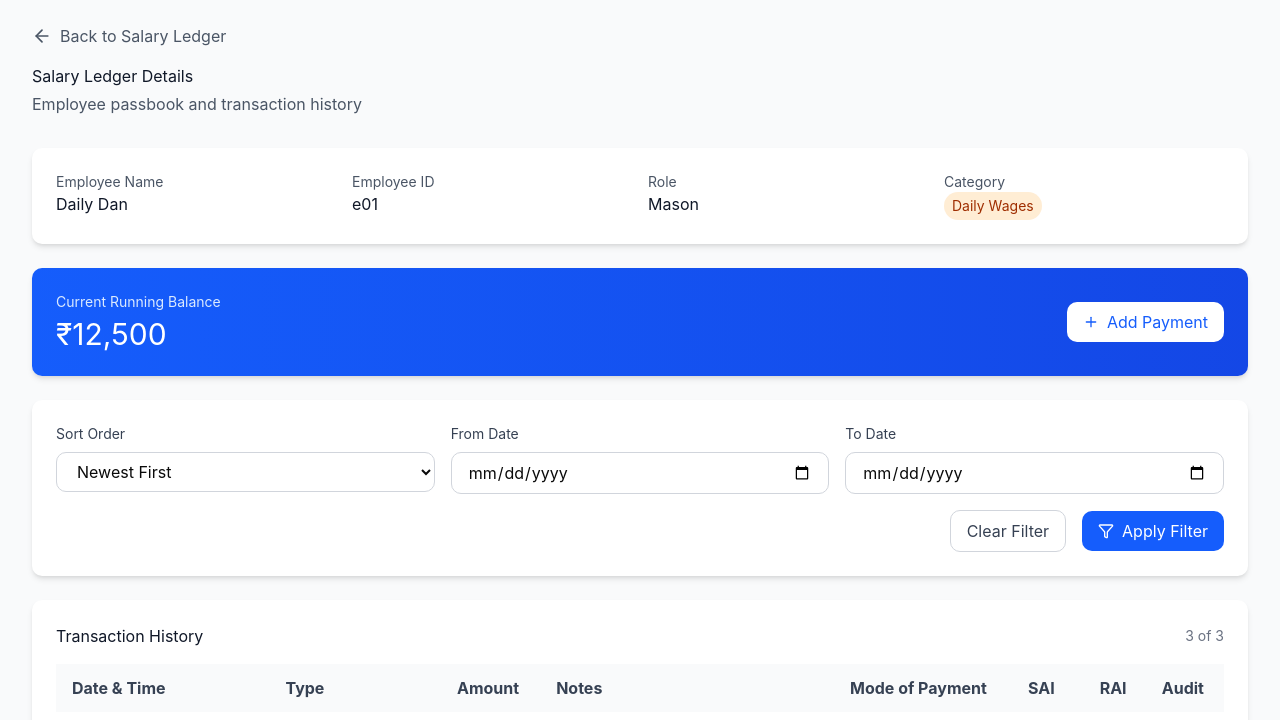
Test case: SalaryLedgerDetailScreen › sorting and filtering › Clear Filter puts everything back and reloads
Check: the heading "Salary Ledger Details" is shown, box [32, 66, 193, 86]
Select "Oldest First" in the dropdown labelled "Sort Order" at (245, 472), box [56, 452, 435, 492]
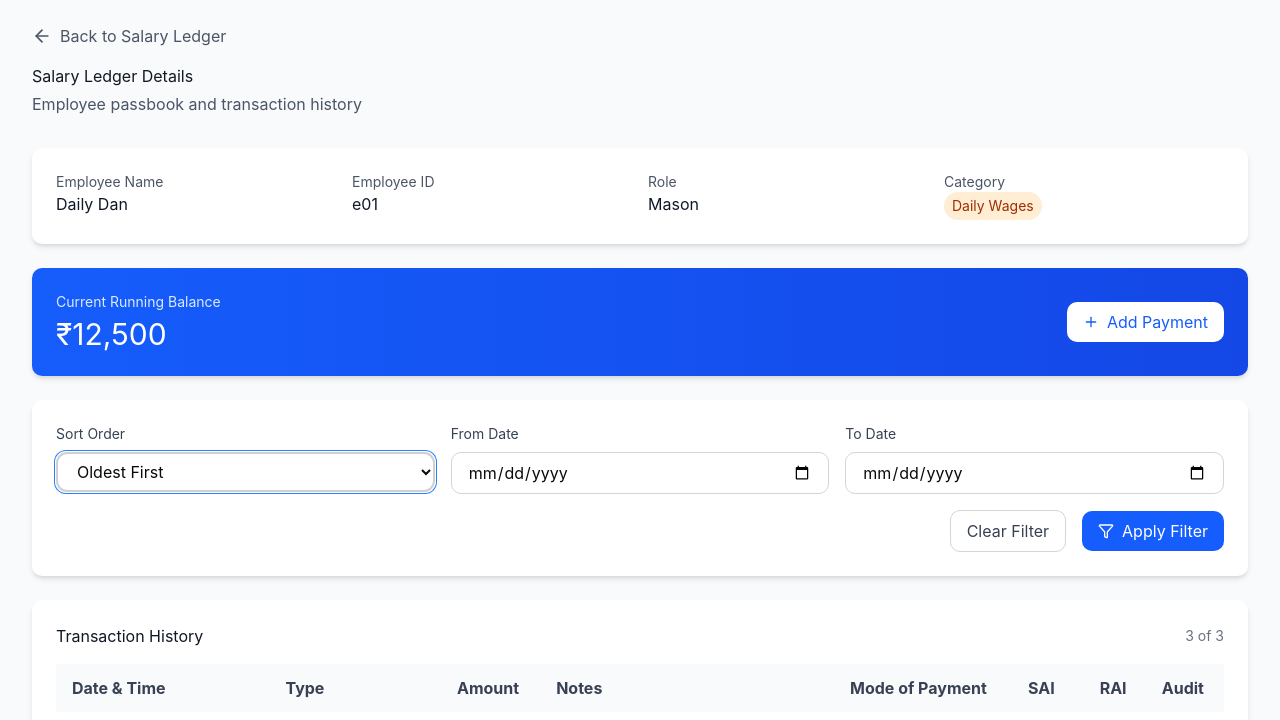
Type "2026-10-01" into the date field labelled "From Date".
click(640, 473); type("2026-10-01")  # box [451, 452, 829, 494]
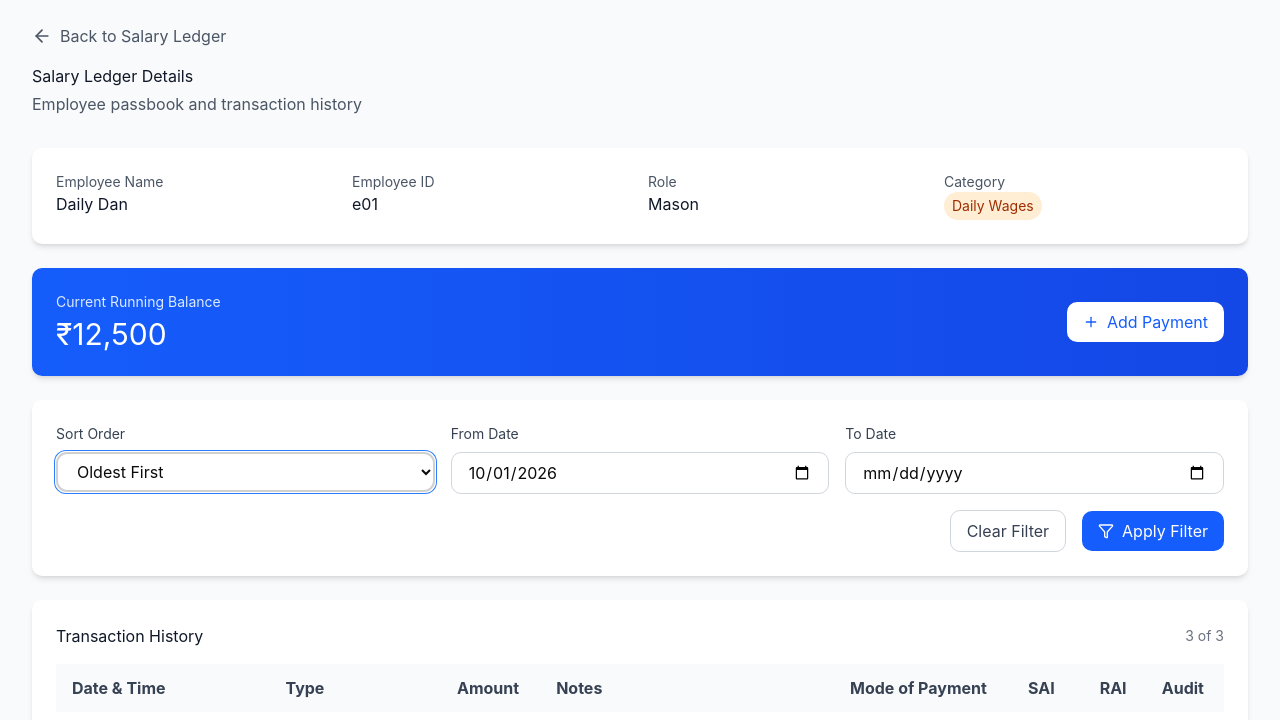
Click the button "Clear Filter".
click(1008, 531)  # box [950, 510, 1066, 552]
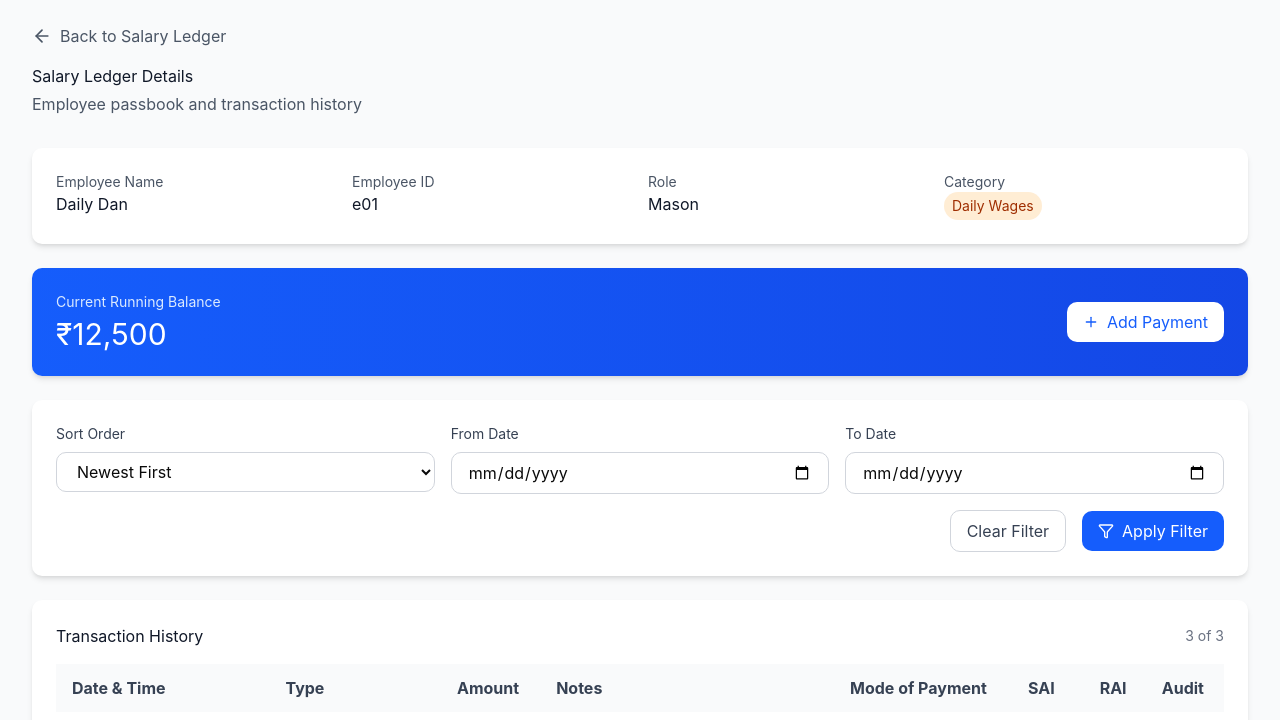
Check: the dropdown labelled "Sort Order" shows "Newest First", box [56, 452, 435, 492]
Check: the date field labelled "From Date" is empty, box [451, 452, 829, 494]
